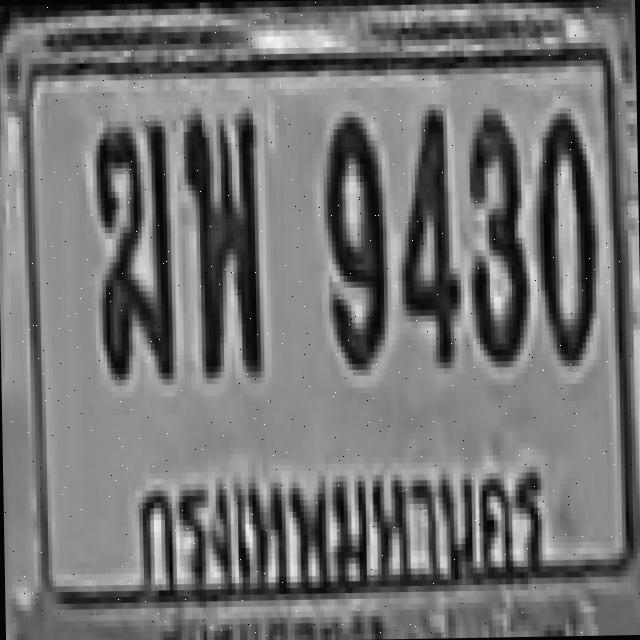0: (534, 107, 597, 360)
15KhorRaKhang: (91, 114, 169, 374)
3: (464, 102, 528, 362)
39PhorPan: (183, 107, 257, 372)
4: (395, 104, 458, 362)
9: (322, 108, 384, 361)
Bangkok: (133, 440, 556, 600)
